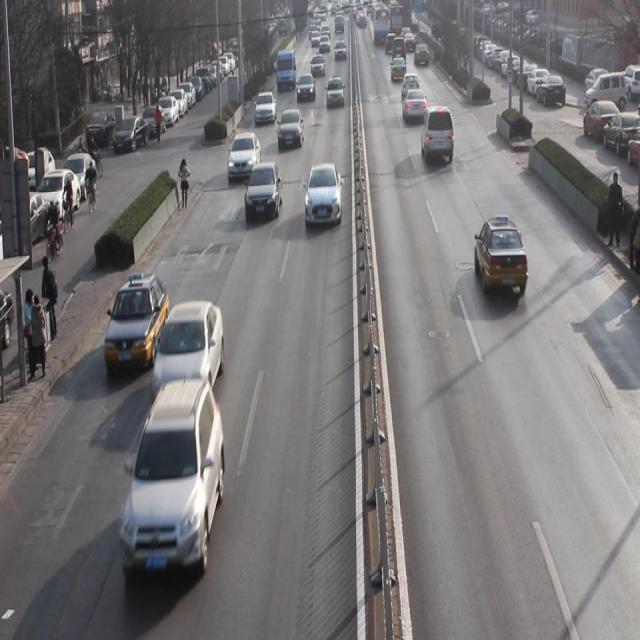car: (124, 389, 224, 577), (154, 304, 224, 406), (104, 276, 170, 369), (475, 214, 528, 303), (305, 166, 343, 230), (246, 163, 282, 222), (228, 132, 261, 182), (276, 110, 304, 152), (402, 85, 427, 122), (253, 91, 276, 125), (325, 78, 345, 108), (296, 74, 316, 103), (402, 72, 419, 99)
truck: (421, 106, 456, 167), (276, 50, 298, 92)
